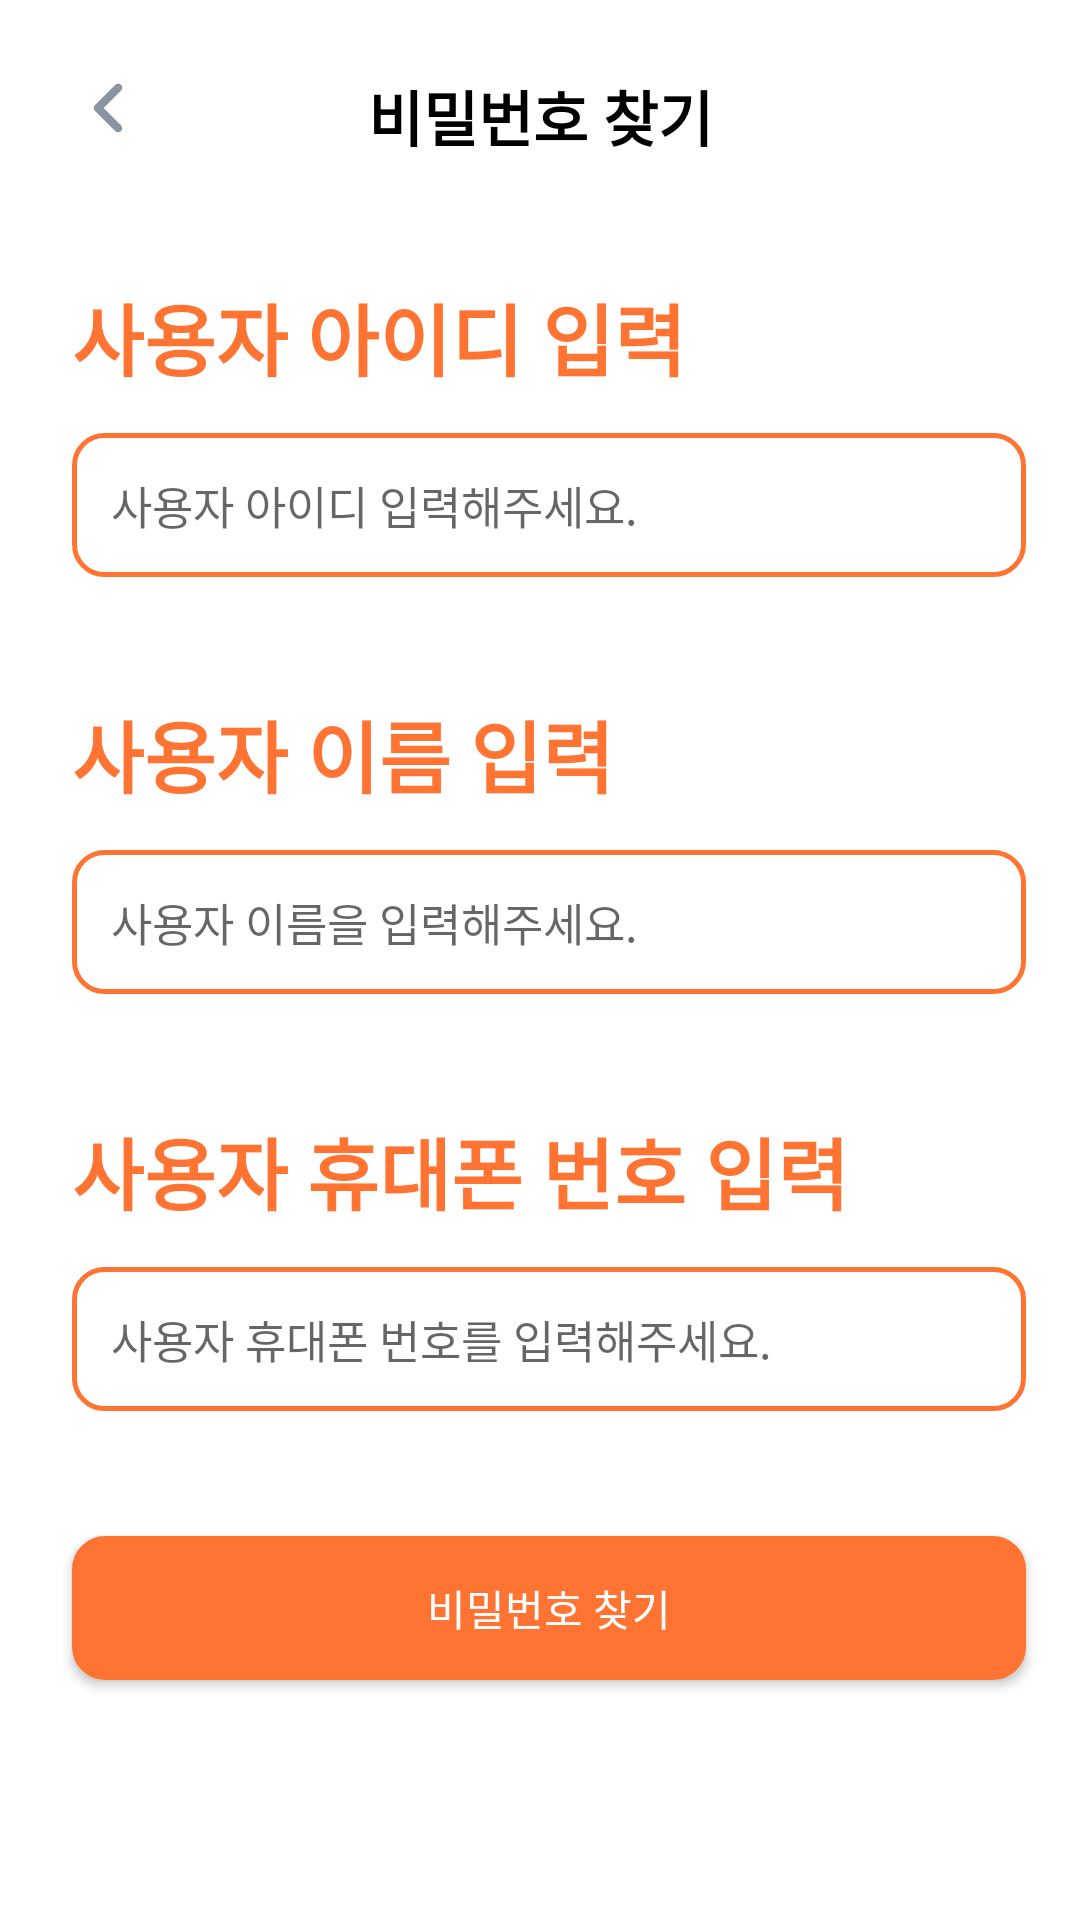

Locate icon controls on the screen. Image size 1080px x 1920px, boxes as (x1, y1, x2, y2).
arrow left mono: (94, 83, 123, 133)
